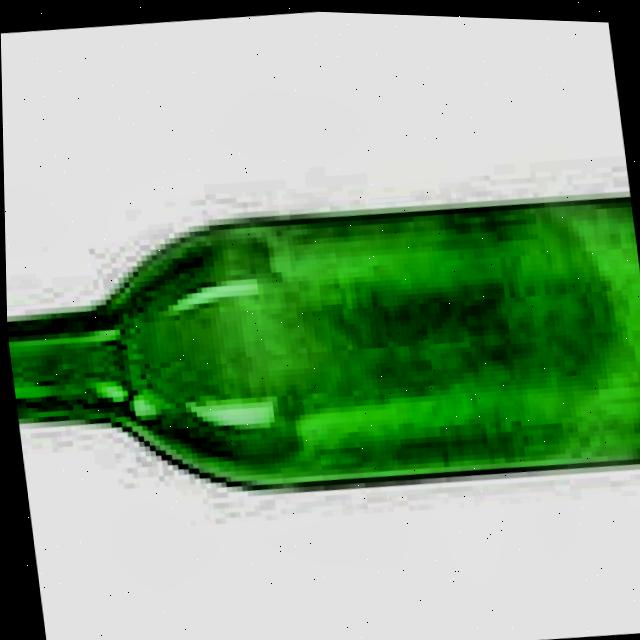glass: (6, 189, 640, 484)
